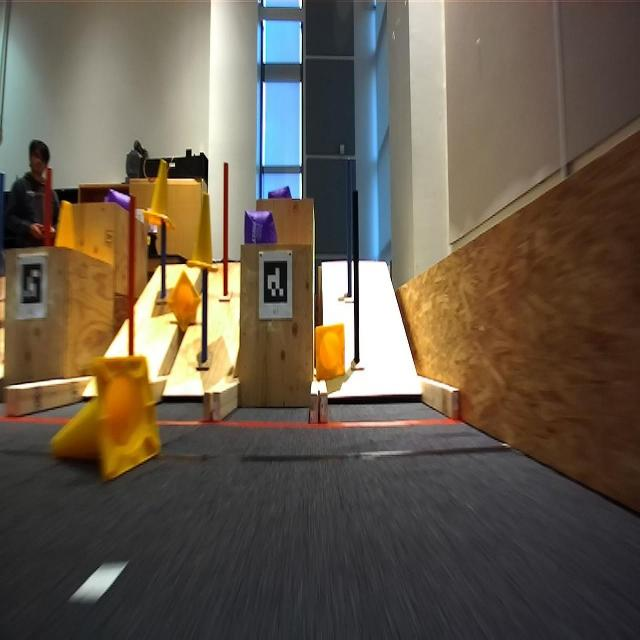frc_cone: (49, 355, 163, 478), (186, 192, 220, 273), (142, 158, 174, 231), (316, 320, 350, 386), (170, 270, 200, 336), (52, 193, 78, 249)
frc_cube: (247, 209, 281, 251), (107, 189, 131, 208), (266, 183, 294, 199)
